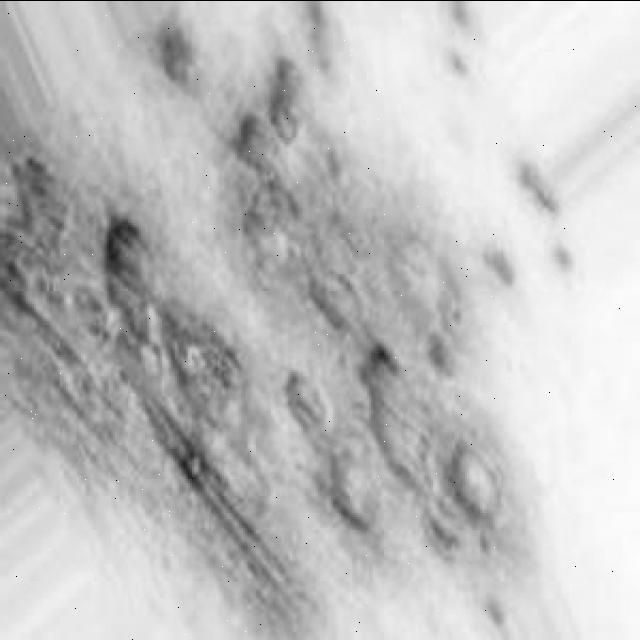Shingles: (0, 158, 505, 550)
